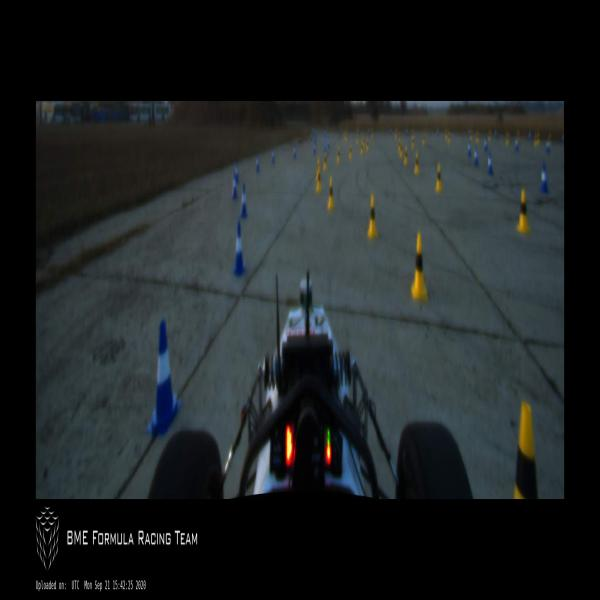blue_cone: (148, 319, 183, 437), (232, 220, 246, 276), (538, 160, 548, 195), (240, 184, 248, 218), (230, 173, 238, 199), (487, 150, 494, 176), (233, 162, 239, 183), (255, 154, 260, 172), (474, 144, 478, 166), (545, 136, 550, 152), (467, 140, 471, 157), (483, 134, 487, 151), (515, 134, 519, 150), (271, 149, 275, 163), (294, 144, 296, 160), (314, 141, 316, 155), (324, 140, 326, 152)
yellow_cone: (512, 399, 539, 498), (410, 234, 428, 303), (517, 188, 530, 234), (366, 194, 378, 239), (327, 177, 335, 211), (436, 164, 442, 194), (414, 152, 420, 174), (317, 167, 322, 193), (316, 158, 320, 180), (323, 152, 327, 172), (404, 147, 408, 167), (505, 131, 509, 147), (337, 146, 340, 164), (400, 141, 403, 159), (349, 144, 352, 160), (361, 140, 364, 154), (366, 138, 369, 152), (412, 136, 415, 150), (534, 132, 537, 146), (398, 139, 401, 152), (476, 131, 479, 144), (488, 130, 491, 143), (356, 132, 359, 144), (422, 132, 425, 143), (448, 129, 450, 144)
